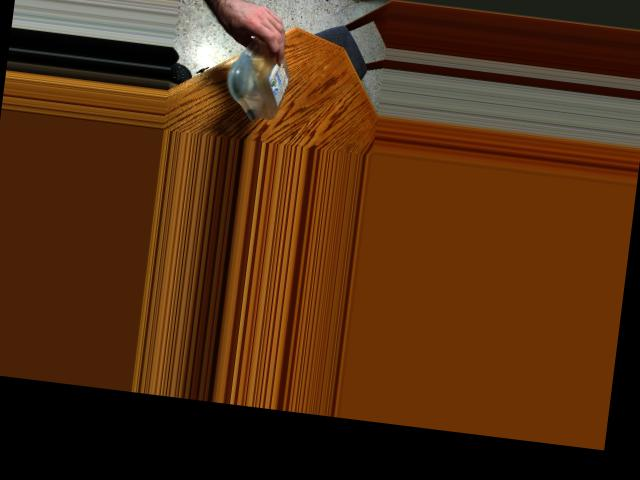cheese: (231, 22, 293, 118)
